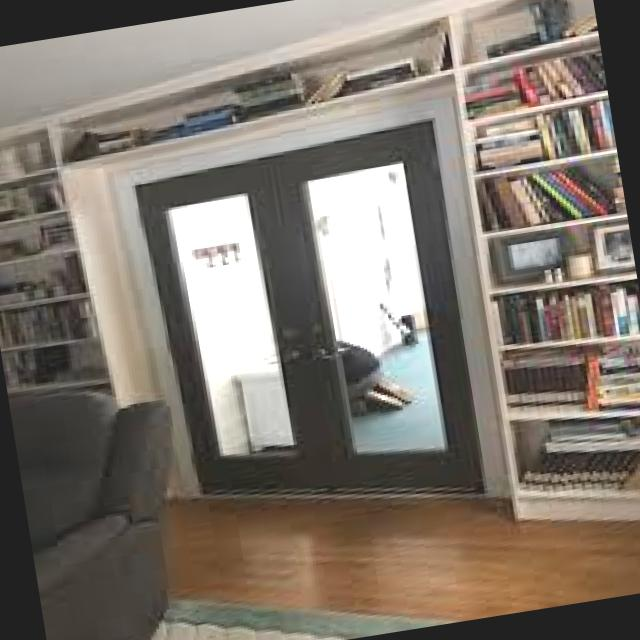door: (106, 95, 515, 501)
